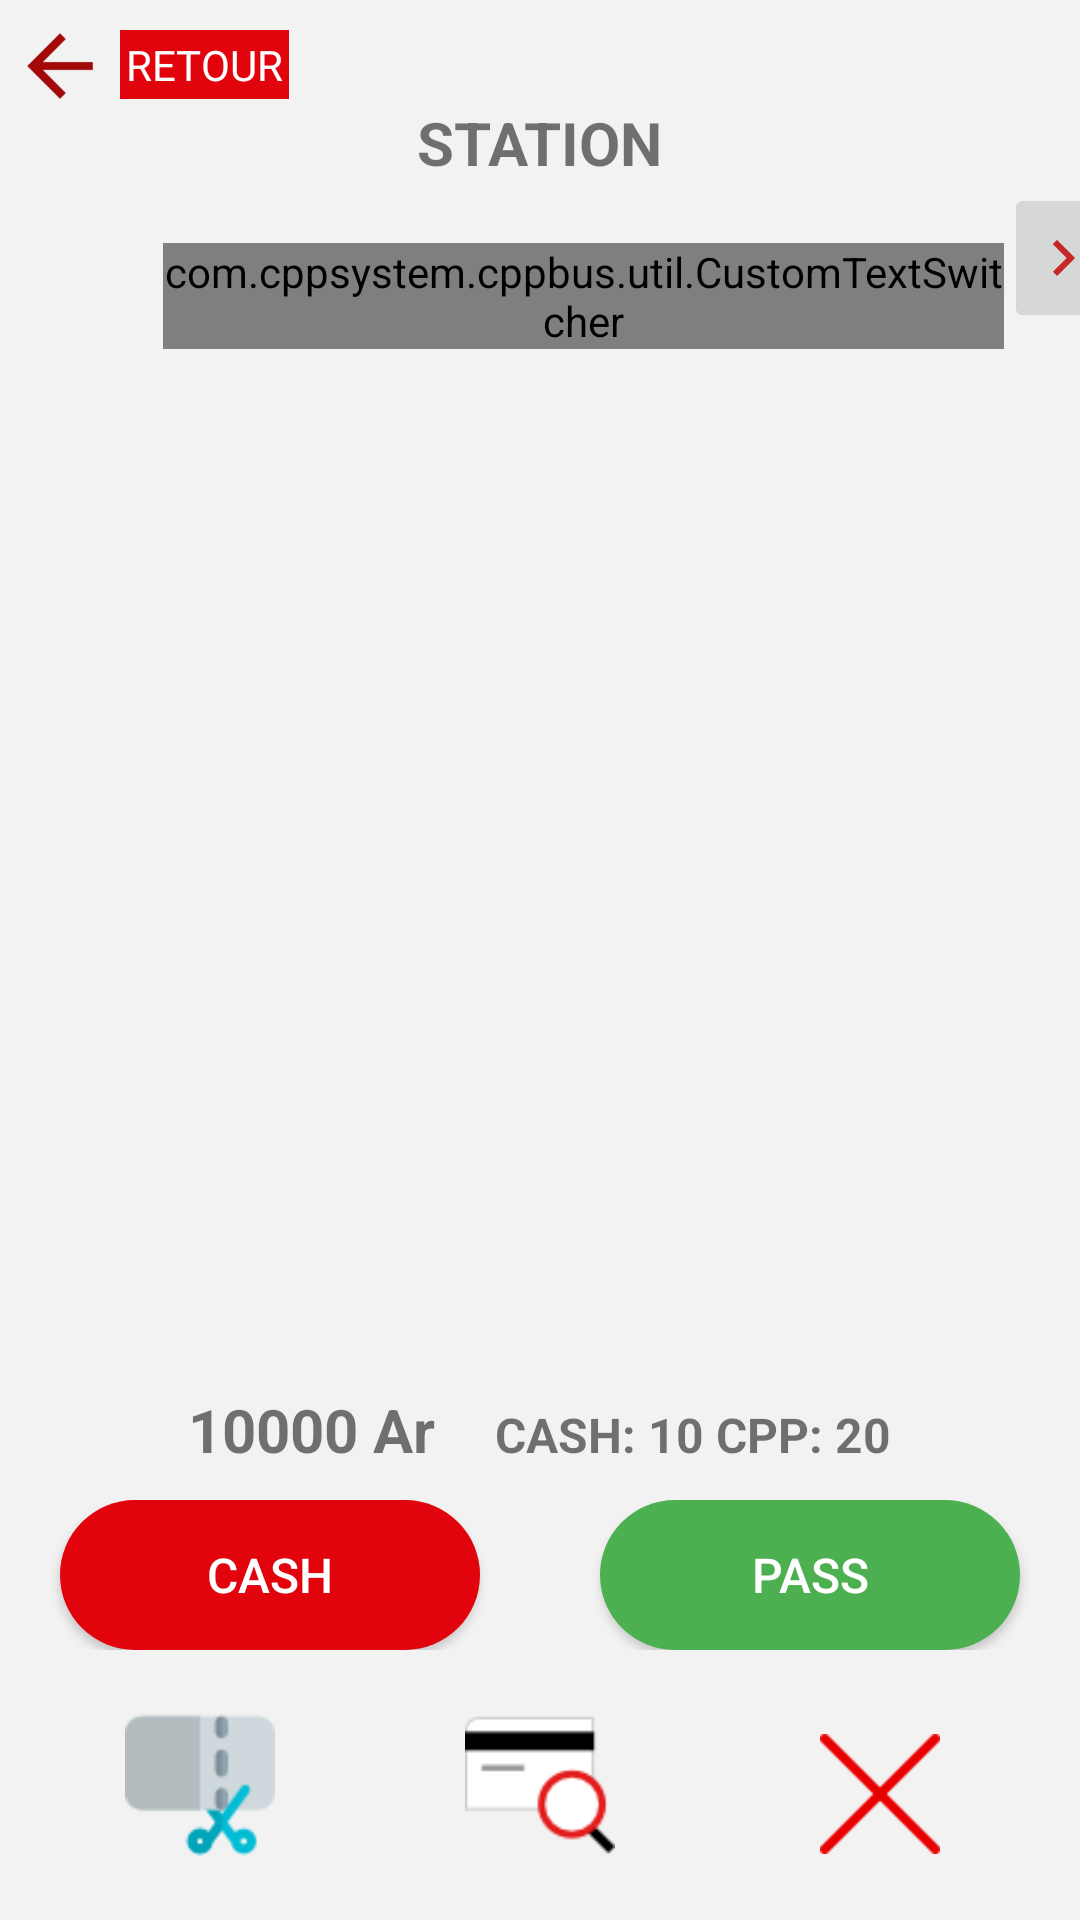

Point at icon controls on the screen. Image size 1080 × 1920, points as (x,y).
arrow back: (60,66)
cancel: (880,1794)
cutting: (200,1785)
search card: (540,1785)
